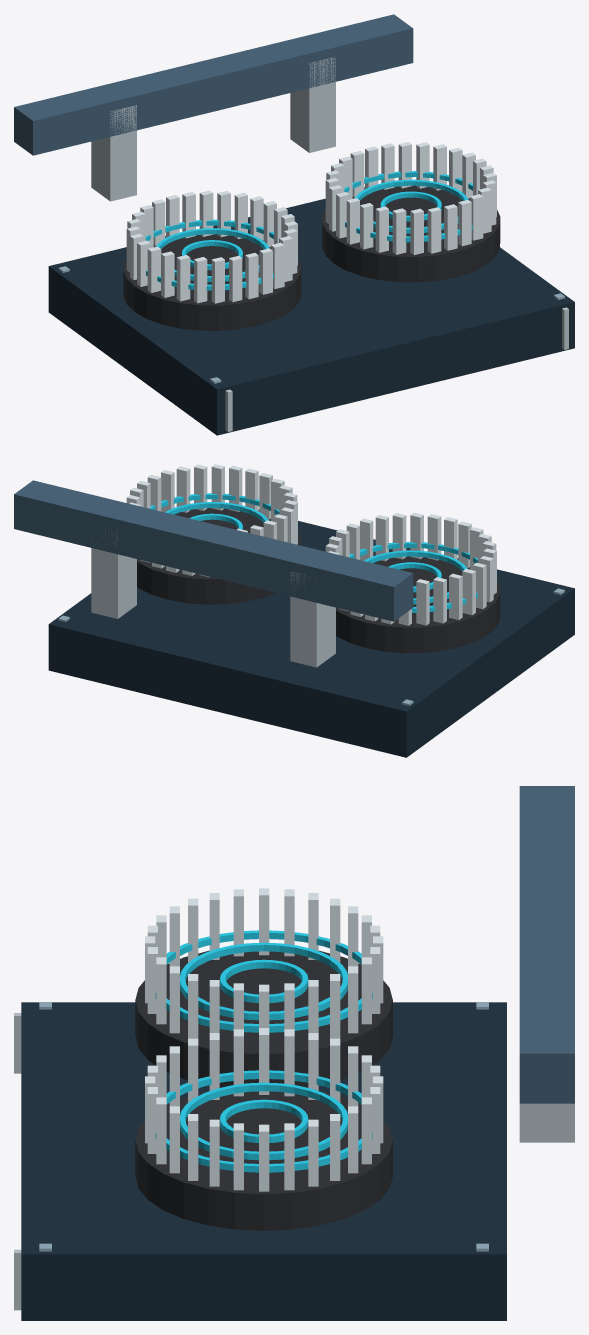
Rendered from 41_L73_WaferBrushCleaningAssembly.fbx.
3 renders of one model, top to bottom at view 1: azimuth 30°, elevation 25°; view 2: azimuth 150°, elevation 25°; view 3: azimuth 270°, elevation 25°, orthographic. The views are drawn at different scales.
Visible parts, largest first — view 1: WaferBrushCleaningAssembly, WaferBrushCleaningAssembly_Part_0039, WaferBrushCleaningAssembly_Part_0007, WaferBrushCleaningAssembly_Part_0037, WaferBrushCleaningAssembly_Part_0069, WaferBrushCleaningAssembly_Part_0070, WaferBrushCleaningAssembly_Part_0038, WaferBrushCleaningAssembly_Part_0050, WaferBrushCleaningAssembly_Part_0048, WaferBrushCleaningAssembly_Part_0019, WaferBrushCleaningAssembly_Part_0016, WaferBrushCleaningAssembly_Part_0017 (+16 smaller); view 2: WaferBrushCleaningAssembly, WaferBrushCleaningAssembly_Part_0007, WaferBrushCleaningAssembly_Part_0039, WaferBrushCleaningAssembly_Part_0037, WaferBrushCleaningAssembly_Part_0038, WaferBrushCleaningAssembly_Part_0069, WaferBrushCleaningAssembly_Part_0026, WaferBrushCleaningAssembly_Part_0025, WaferBrushCleaningAssembly_Part_0024, WaferBrushCleaningAssembly_Part_0070, WaferBrushCleaningAssembly_Part_0023, WaferBrushCleaningAssembly_Part_0012 (+18 smaller); view 3: WaferBrushCleaningAssembly, WaferBrushCleaningAssembly_Part_0039, WaferBrushCleaningAssembly_Part_0007, WaferBrushCleaningAssembly_Part_0037, WaferBrushCleaningAssembly_Part_0069, WaferBrushCleaningAssembly_Part_0070, WaferBrushCleaningAssembly_Part_0038, WaferBrushCleaningAssembly_Part_0068, WaferBrushCleaningAssembly_Part_0036, WaferBrushCleaningAssembly_Part_0013, WaferBrushCleaningAssembly_Part_0045, WaferBrushCleaningAssembly_Part_0066 (+16 smaller).
Boxes of the visible parts, bbox=[...] form: WaferBrushCleaningAssembly: bbox=[14, 14, 574, 435]; WaferBrushCleaningAssembly_Part_0039: bbox=[322, 185, 500, 282]; WaferBrushCleaningAssembly_Part_0007: bbox=[123, 234, 301, 330]; WaferBrushCleaningAssembly_Part_0037: bbox=[155, 228, 269, 281]; WaferBrushCleaningAssembly_Part_0069: bbox=[355, 179, 468, 233]; WaferBrushCleaningAssembly_Part_0070: bbox=[344, 171, 472, 242]; WaferBrushCleaningAssembly_Part_0038: bbox=[145, 219, 279, 290]; WaferBrushCleaningAssembly_Part_0050: bbox=[392, 208, 406, 254]; WaferBrushCleaningAssembly_Part_0048: bbox=[427, 207, 441, 253]; WaferBrushCleaningAssembly_Part_0019: bbox=[176, 255, 190, 301]; WaferBrushCleaningAssembly_Part_0016: bbox=[229, 255, 242, 302]; WaferBrushCleaningAssembly_Part_0017: bbox=[211, 257, 224, 303]; WaferBrushCleaningAssembly: bbox=[14, 480, 574, 757]; WaferBrushCleaningAssembly_Part_0007: bbox=[336, 556, 500, 653]; WaferBrushCleaningAssembly_Part_0039: bbox=[137, 508, 301, 604]; WaferBrushCleaningAssembly_Part_0037: bbox=[364, 550, 467, 604]; WaferBrushCleaningAssembly_Part_0038: bbox=[349, 542, 477, 612]; WaferBrushCleaningAssembly_Part_0069: bbox=[165, 502, 268, 522]; WaferBrushCleaningAssembly_Part_0026: bbox=[416, 579, 429, 625]; WaferBrushCleaningAssembly_Part_0025: bbox=[433, 577, 446, 623]; WaferBrushCleaningAssembly_Part_0024: bbox=[449, 573, 462, 619]; WaferBrushCleaningAssembly_Part_0070: bbox=[150, 493, 279, 514]; WaferBrushCleaningAssembly_Part_0023: bbox=[462, 568, 475, 615]; WaferBrushCleaningAssembly_Part_0012: bbox=[392, 513, 406, 559]; WaferBrushCleaningAssembly: bbox=[14, 786, 574, 1320]; WaferBrushCleaningAssembly_Part_0039: bbox=[135, 1090, 392, 1230]; WaferBrushCleaningAssembly_Part_0007: bbox=[135, 950, 392, 1087]; WaferBrushCleaningAssembly_Part_0037: bbox=[180, 942, 347, 1020]; WaferBrushCleaningAssembly_Part_0069: bbox=[180, 1082, 347, 1160]; WaferBrushCleaningAssembly_Part_0070: bbox=[155, 1070, 372, 1172]; WaferBrushCleaningAssembly_Part_0038: bbox=[155, 930, 372, 1032]; WaferBrushCleaningAssembly_Part_0068: bbox=[220, 1099, 308, 1142]; WaferBrushCleaningAssembly_Part_0036: bbox=[220, 959, 308, 1003]; WaferBrushCleaningAssembly_Part_0013: bbox=[156, 957, 166, 1024]; WaferBrushCleaningAssembly_Part_0045: bbox=[156, 1097, 166, 1164]; WaferBrushCleaningAssembly_Part_0066: bbox=[308, 1119, 318, 1186].
Bounding box in the file's own units: 172 × 82.5 × 152.
